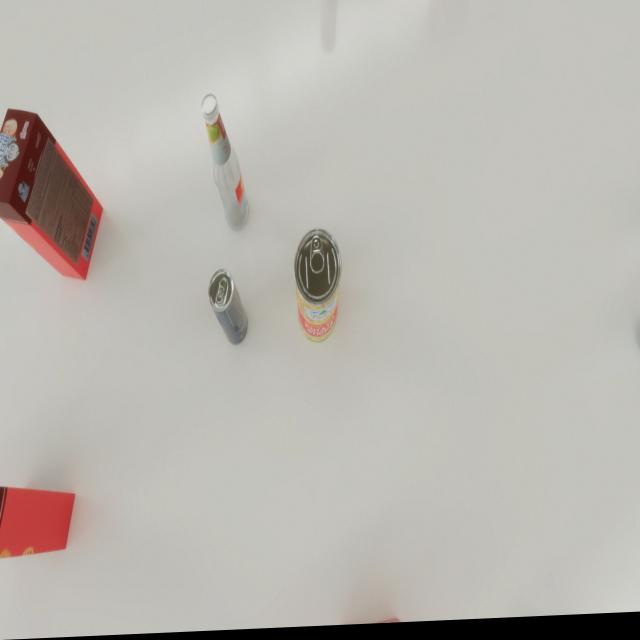Bottle: (202, 95, 250, 235)
HelloPanda: (0, 105, 103, 284)
Potato_sticks: (294, 230, 342, 347)
Rita_zero_sugar: (0, 143, 42, 233), (208, 270, 248, 348)
